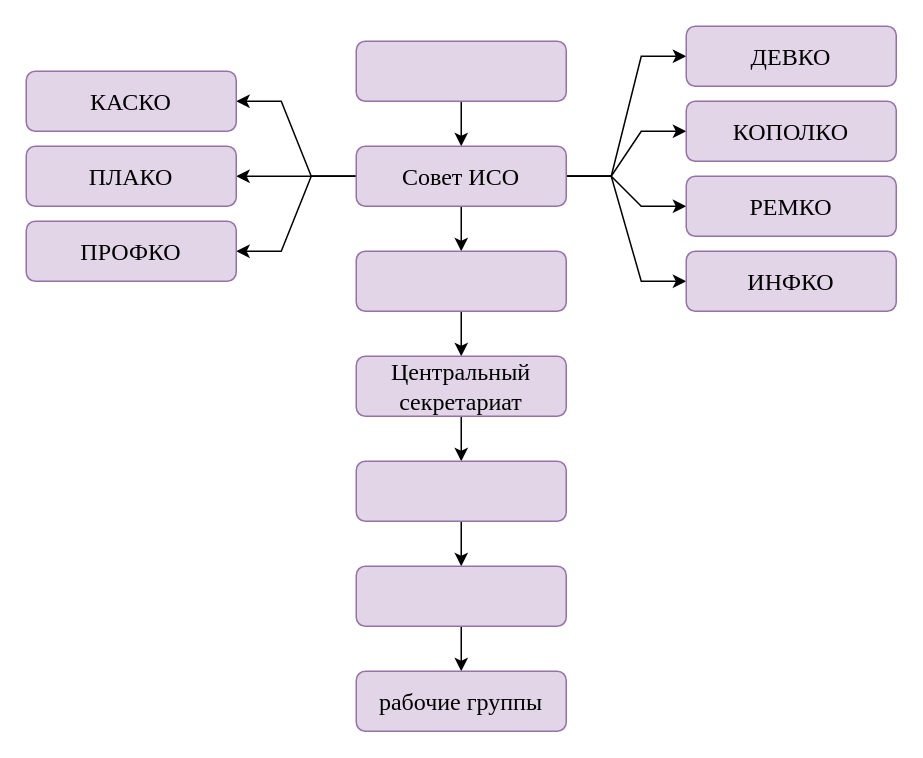
Image size: 923x758. Some labels were removed from this diagram. Here are the shapes that lost their labels. From the top down, the centre of each, then its label:
At point 460,70: "Ген. ассамблея".
At point 460,280: "Исполнительное бюро".
At point 460,490: "Технические комитеты".
At point 460,595: "Подкомитеты".
